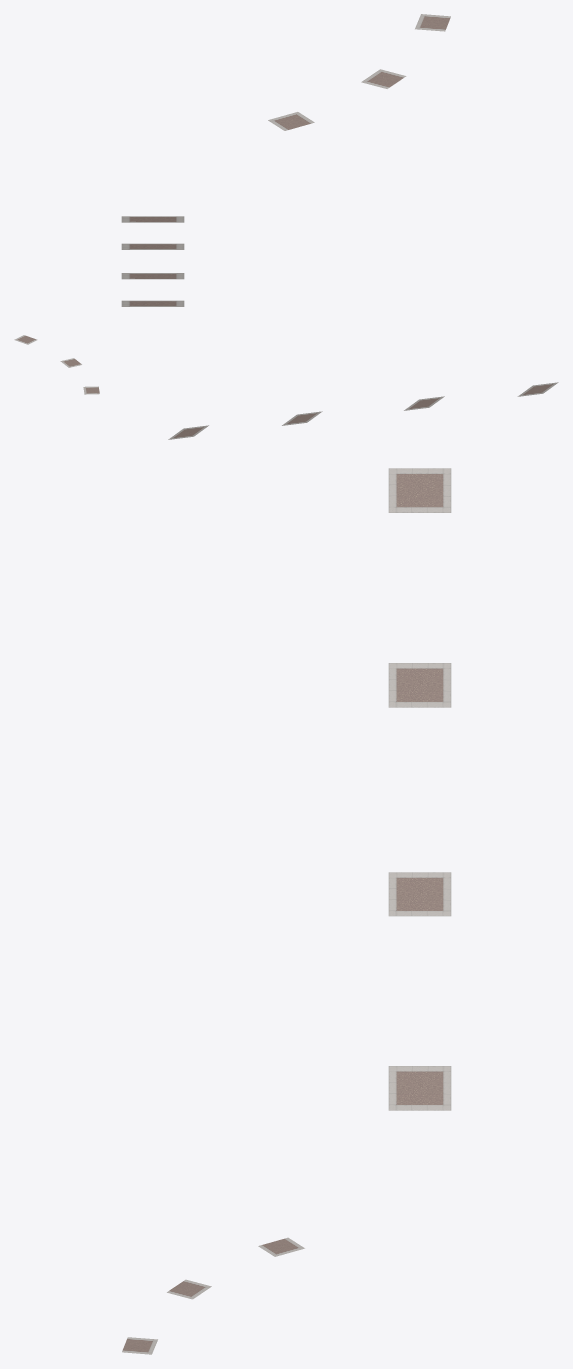
File: kd_connection_town-ground_surface_1_47.glb
The picture shows the model from 3 angles, top to bottom: view 1: azimuth 90°, elevation 25°; view 2: azimuth 150°, elevation 25°; view 3: azimuth 270°, elevation 25°; orthographic projection. The views are drawn at different scales.
Parts seen in each view (by area): view 1: kd_connection_town-ground_surface_1_47; view 2: kd_connection_town-ground_surface_1_47; view 3: kd_connection_town-ground_surface_1_47.
Part boxes in pixels (<box>): kd_connection_town-ground_surface_1_47: <box>121,14,450,306</box>; kd_connection_town-ground_surface_1_47: <box>14,335,558,439</box>; kd_connection_town-ground_surface_1_47: <box>122,468,451,1354</box>.
Size of the model in its own units: 38.35 by 9 by 9.05.
Materials: 1 (1 with a texture image).
